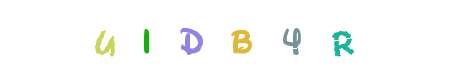4: (254, 0, 334, 80)
B: (195, 0, 275, 80)
D: (158, 0, 238, 80)
I: (142, 0, 222, 80)
R: (301, 0, 381, 80)
U: (106, 0, 186, 80)
